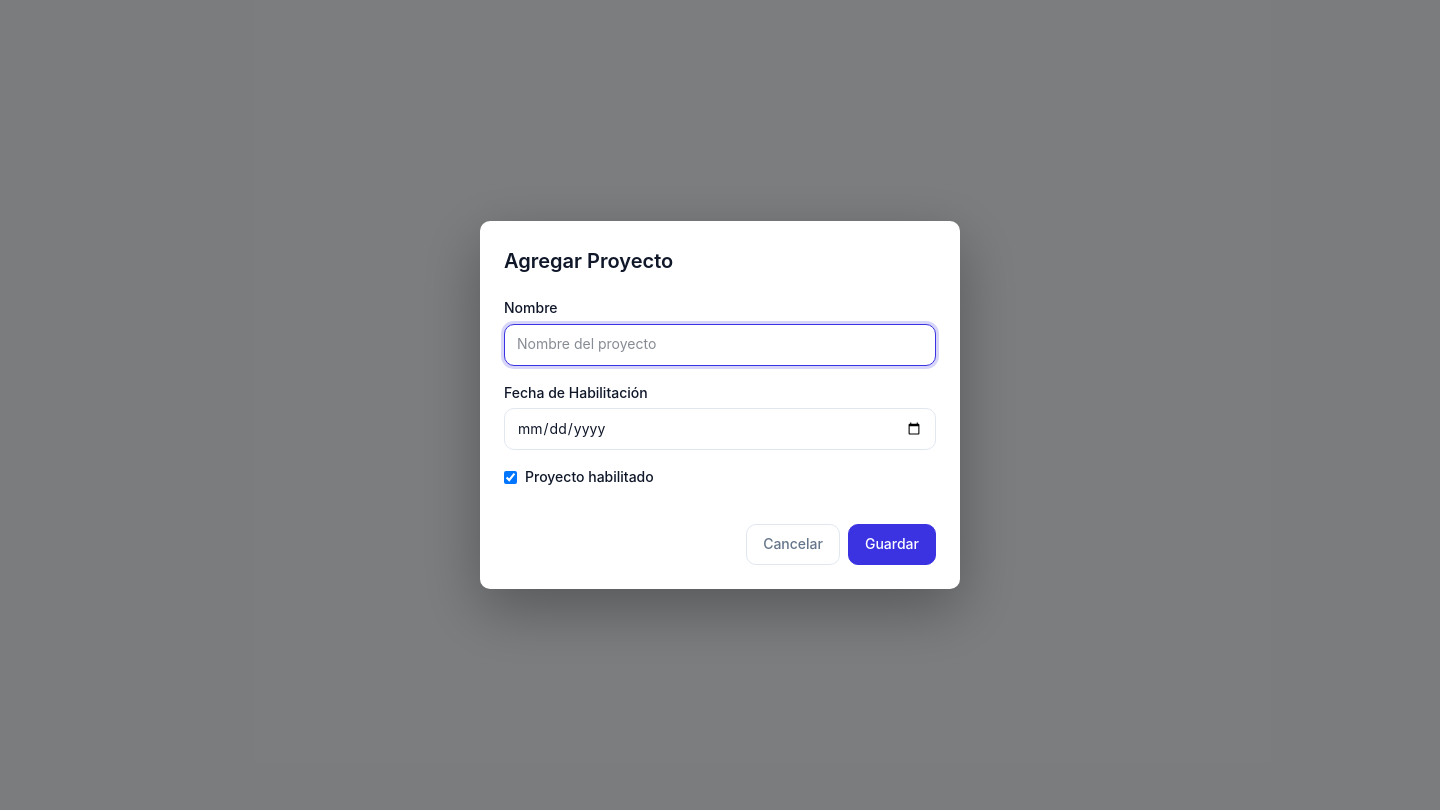
ProyectoFormModal › Disable during submit › when submitting, all inputs and buttons are disabled, button shows "Guardando..."
Type "Proyecto Válido" into the field labelled "Nombre".
click(720, 345); type("Proyecto Válido")  # box [504, 324, 936, 366]
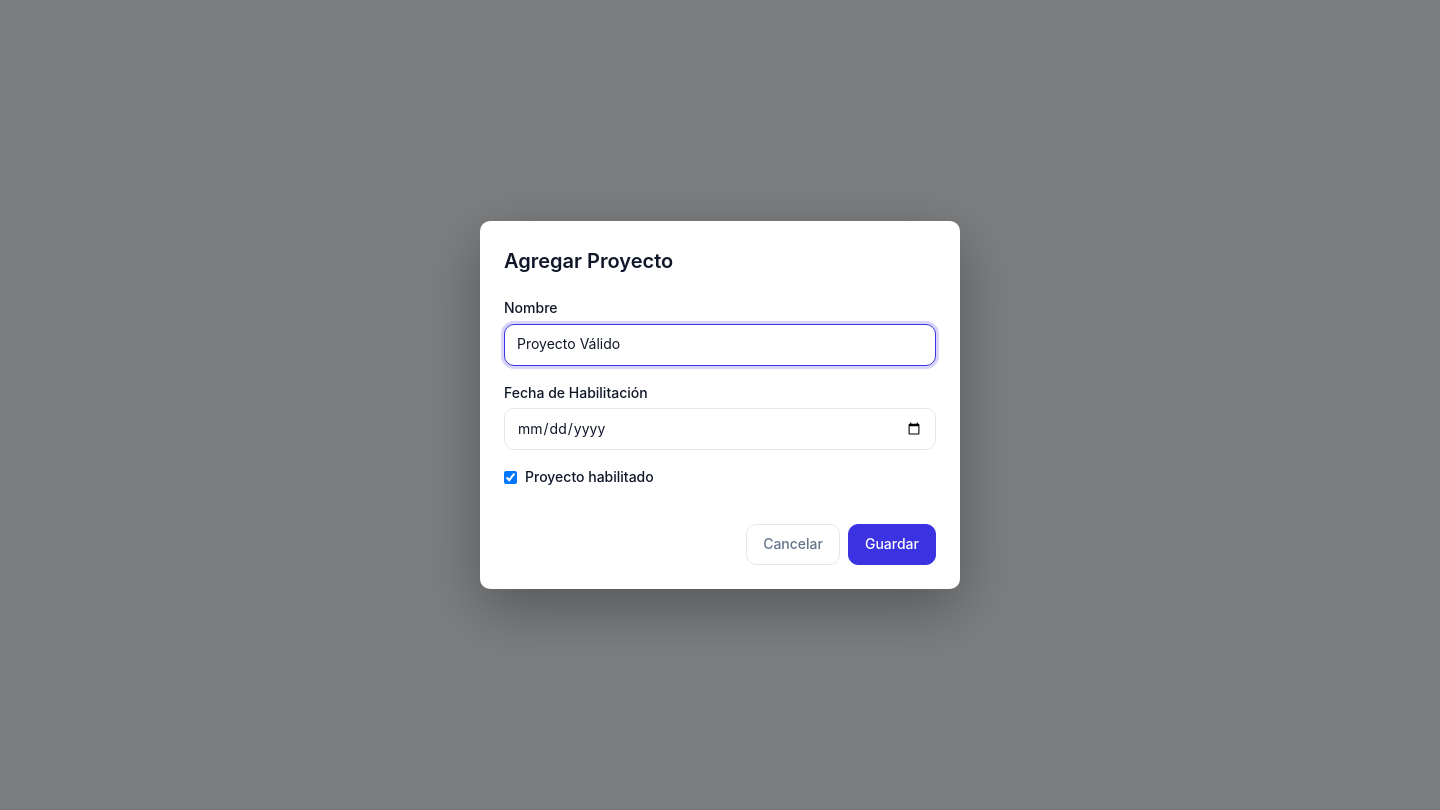
Type "2024-06-15" into the date field labelled "Fecha de Habilitación".
click(720, 429); type("2024-06-15")  # box [504, 408, 936, 450]
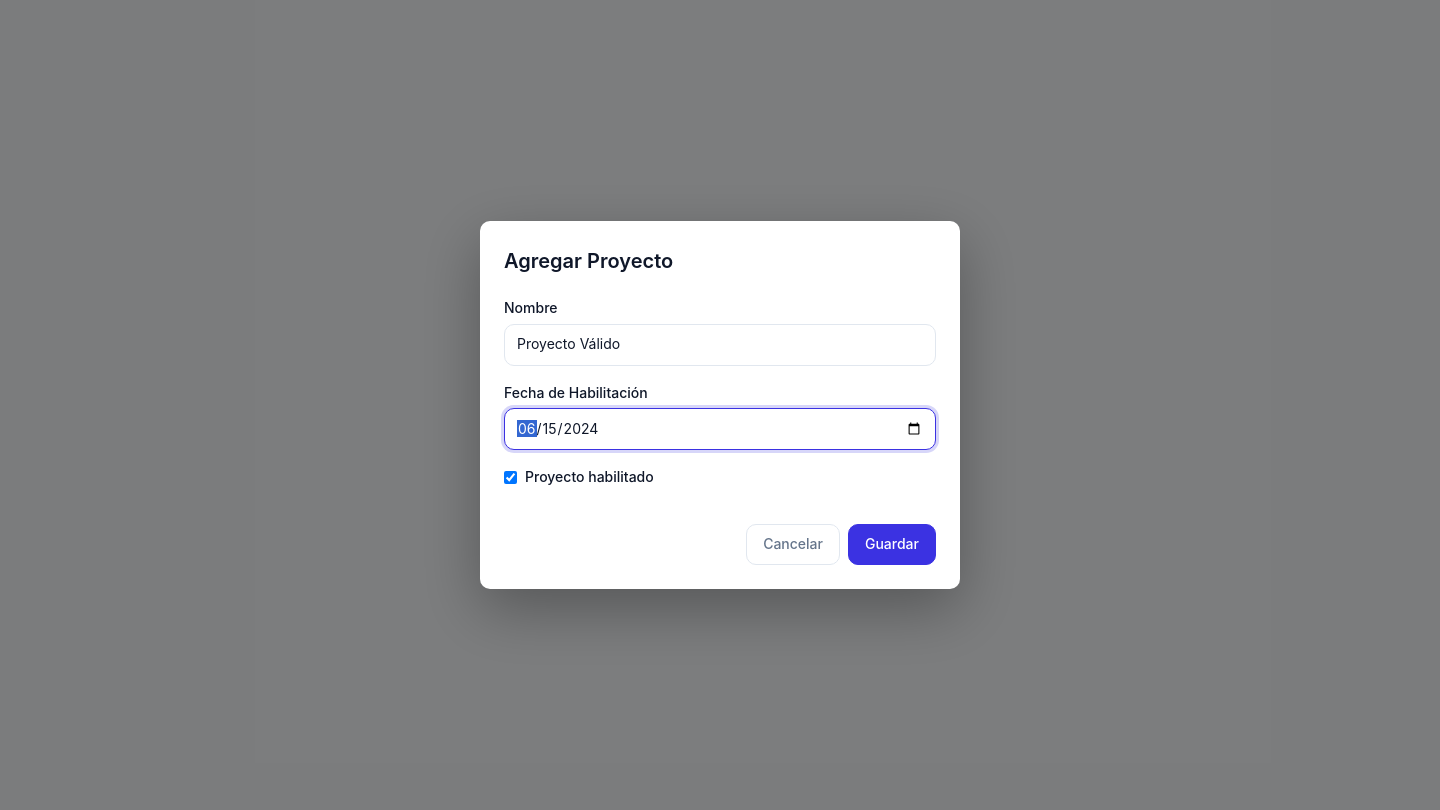
# Submit the form
Click the button "Guardar".
click(892, 545)  # box [848, 524, 936, 565]
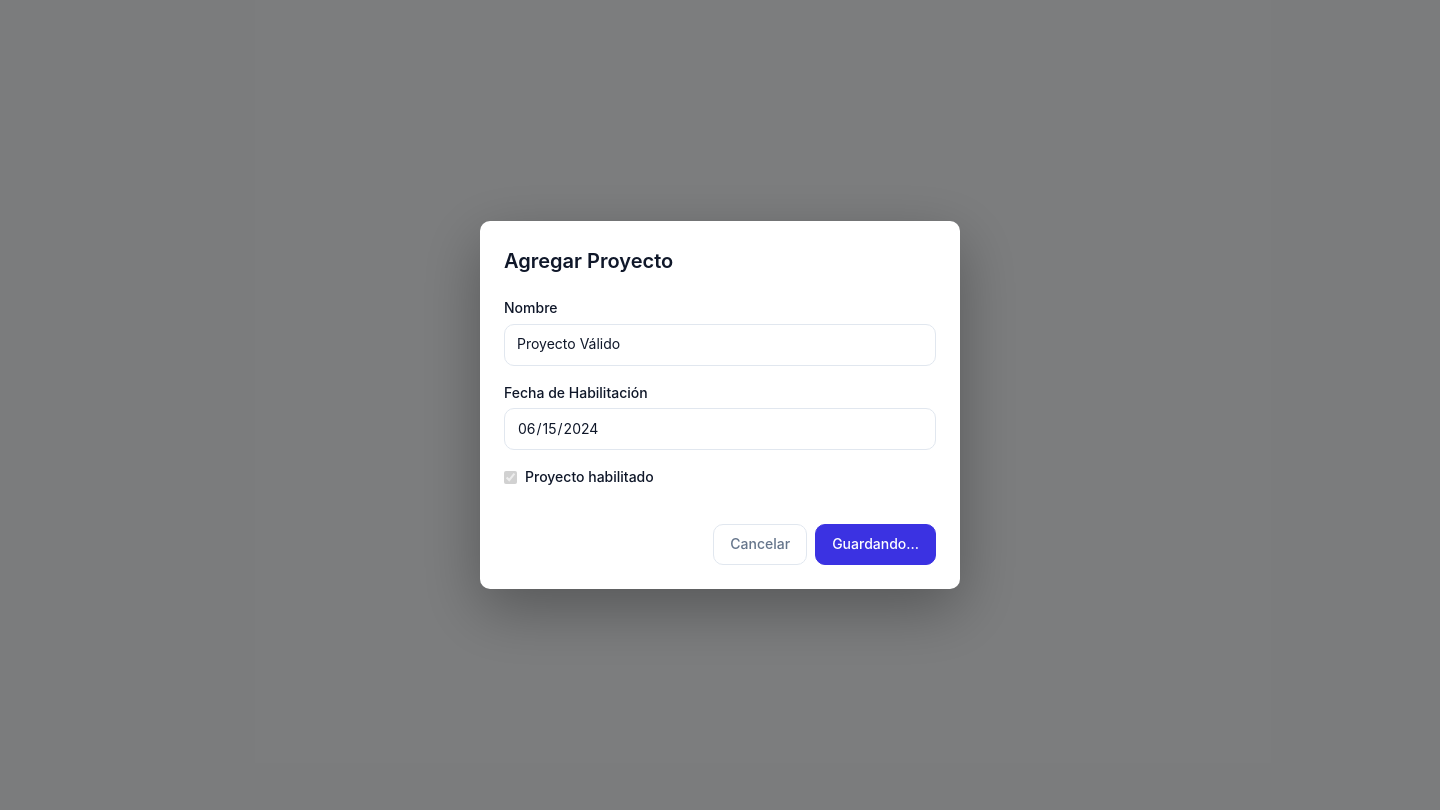
Expected: the button "Guardando..." is disabled, [815, 524, 936, 565]
Expected: the date field labelled "Fecha de Habilitación" is disabled, [504, 408, 936, 450]
Expected: the checkbox labelled "Proyecto habilitado" is disabled, [504, 471, 517, 484]
